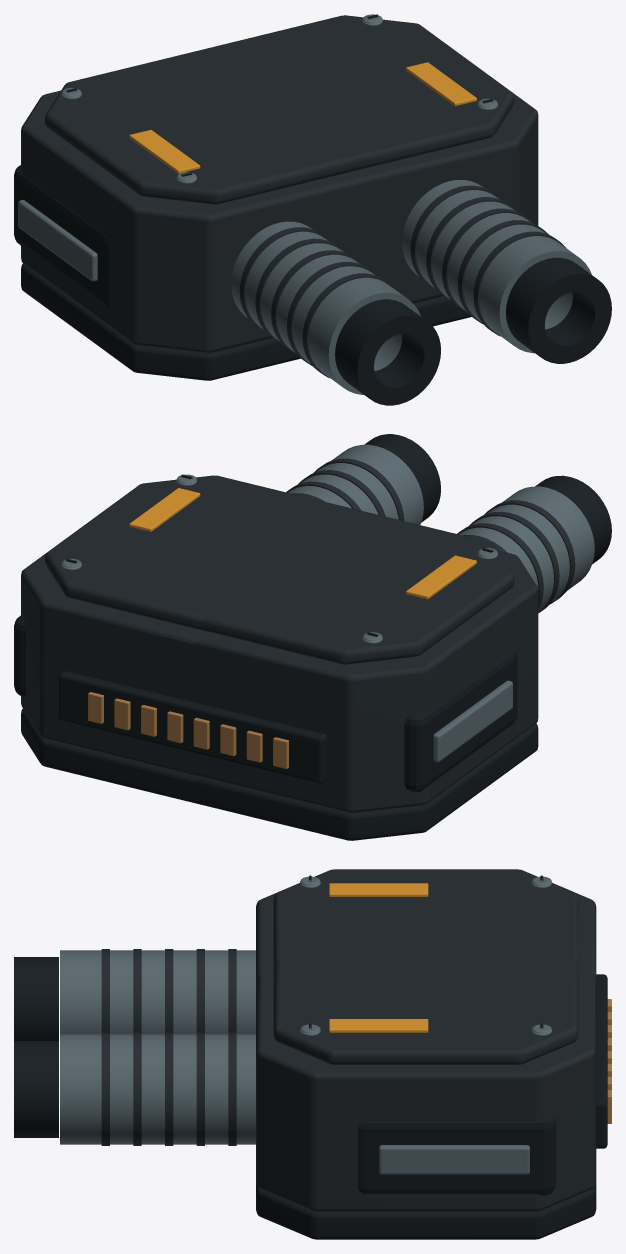
The model's file is autocannon_module.glb.
3 views of the same model, one above another, from view 1: azimuth 30°, elevation 25°; view 2: azimuth 150°, elevation 25°; view 3: azimuth 270°, elevation 25° (orthographic).
Visible parts, largest first — view 1: ServiceLid, ConformalCassetteShell, CannonServiceSleeve.001, Muzzle.001, LowerIsolationSeal, RecessedCoupler.001, WitnessMark.001, CouplerRail.001, BarrelCoolingCollar.009, BarrelCoolingCollar.006, BarrelCoolingCollar.005, BarrelCoolingCollar.007 (+1 smaller); view 2: ConformalCassetteShell, ServiceLid, LowerIsolationSeal, CannonServiceSleeve.001, ConnectorRecess, RecessedCoupler.001, Muzzle.001, WitnessMark.001, CouplerRail.001, BarrelCoolingCollar.009, BarrelCoolingCollar.008, BarrelCoolingCollar.007 (+4 smaller); view 3: ServiceLid, ConformalCassetteShell, CannonServiceSleeve.001, RecessedCoupler.001, LowerIsolationSeal, Muzzle.001, CouplerRail.001, WitnessMark.001, ConnectorRecess, BarrelCoolingCollar.005, BarrelCoolingCollar.006, BarrelCoolingCollar.007 (+2 smaller).
Part boxes in pixels (box(x1,y1,x2,y2)): ServiceLid: box(45, 15, 514, 204); ConformalCassetteShell: box(21, 90, 538, 352); CannonServiceSleeve.001: box(231, 180, 591, 394); Muzzle.001: box(335, 257, 611, 405); LowerIsolationSeal: box(21, 263, 471, 380); RecessedCoupler.001: box(14, 165, 110, 308); WitnessMark.001: box(129, 62, 476, 173); CouplerRail.001: box(18, 199, 97, 281); BarrelCoolingCollar.009: box(302, 231, 565, 377); BarrelCoolingCollar.006: box(255, 197, 516, 342); BarrelCoolingCollar.005: box(239, 185, 501, 331); BarrelCoolingCollar.007: box(271, 208, 532, 354); ConformalCassetteShell: box(21, 550, 538, 812); ServiceLid: box(45, 475, 514, 664); LowerIsolationSeal: box(21, 709, 538, 840); CannonServiceSleeve.001: box(288, 444, 594, 611); ConnectorRecess: box(58, 671, 327, 783); RecessedCoupler.001: box(14, 615, 517, 792); Muzzle.001: box(365, 434, 611, 563); WitnessMark.001: box(129, 488, 476, 599); CouplerRail.001: box(433, 680, 512, 762); BarrelCoolingCollar.009: box(313, 458, 575, 604); BarrelCoolingCollar.008: box(297, 470, 559, 613); BarrelCoolingCollar.007: box(286, 481, 543, 609); ServiceLid: box(273, 869, 578, 1064); ConformalCassetteShell: box(256, 893, 596, 1211); CannonServiceSleeve.001: box(60, 950, 255, 1144); RecessedCoupler.001: box(358, 1114, 555, 1195); LowerIsolationSeal: box(256, 1182, 596, 1239); Muzzle.001: box(14, 957, 58, 1137); CouplerRail.001: box(379, 1145, 529, 1174); WitnessMark.001: box(329, 883, 428, 1032); ConnectorRecess: box(596, 974, 607, 1148); BarrelCoolingCollar.005: box(228, 949, 236, 1145); BarrelCoolingCollar.006: box(196, 949, 204, 1145); BarrelCoolingCollar.007: box(165, 949, 173, 1145).
Bounding box in the file's own units: 1.04 × 0.444 × 1.27.
